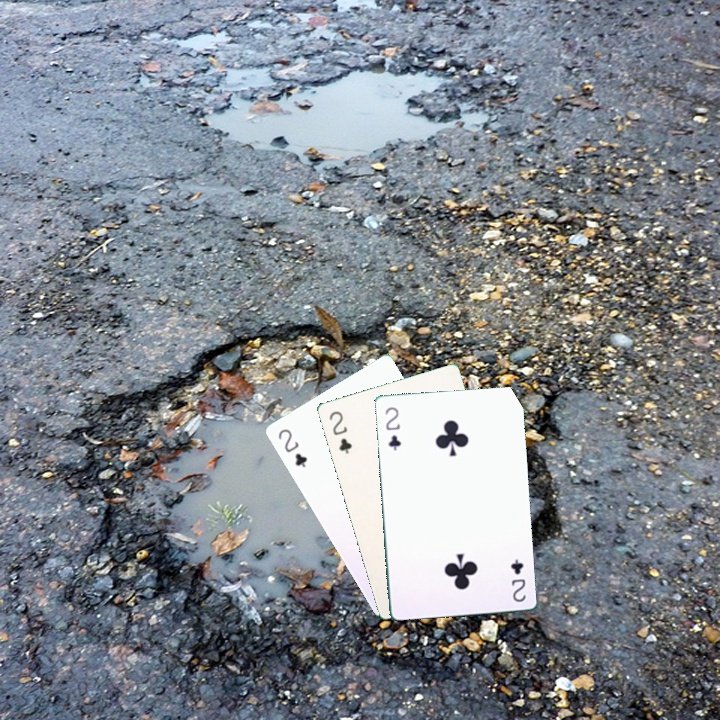2c: (274, 425, 310, 470), (325, 407, 354, 456), (381, 403, 404, 453), (507, 555, 528, 604)
